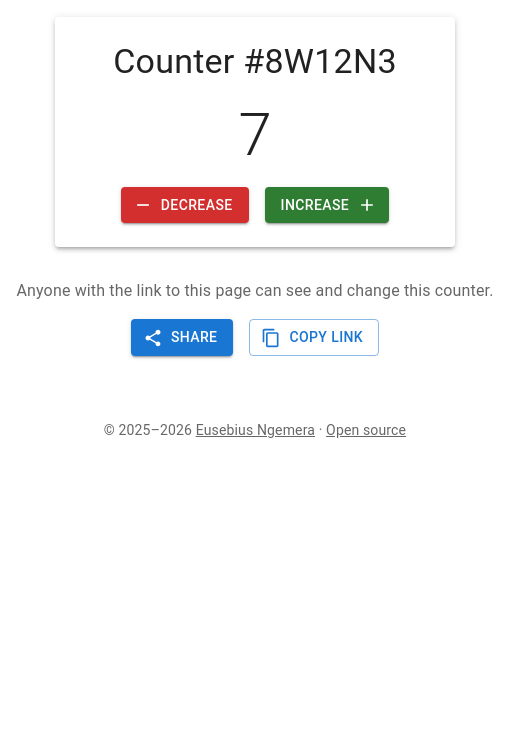
CounterPage Component › copies the link from Share where there is no share sheet
The width and height of the screenshot is (509, 737).
Click the button "Share".
click(182, 338)  # box [131, 320, 233, 356]
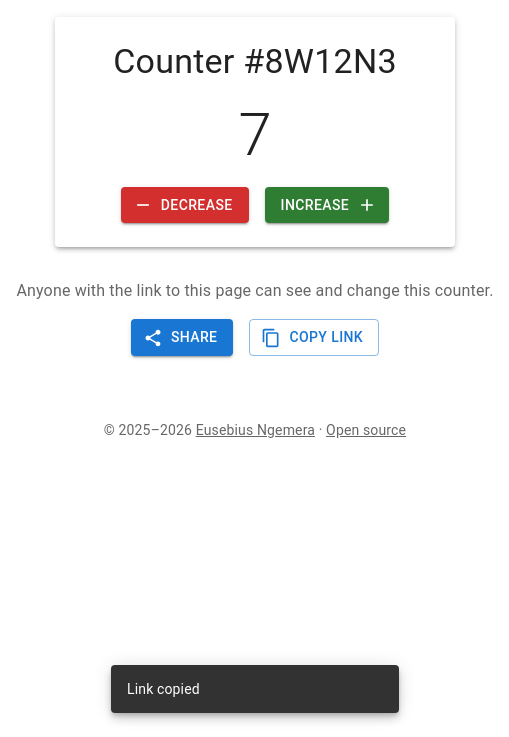
Expected: the text "Link copied" is shown, [127, 681, 200, 697]
